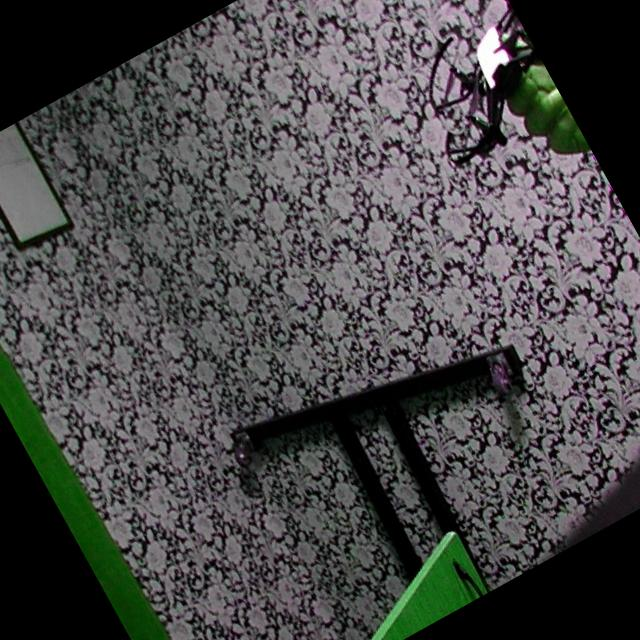drone: (382, 0, 576, 185)
